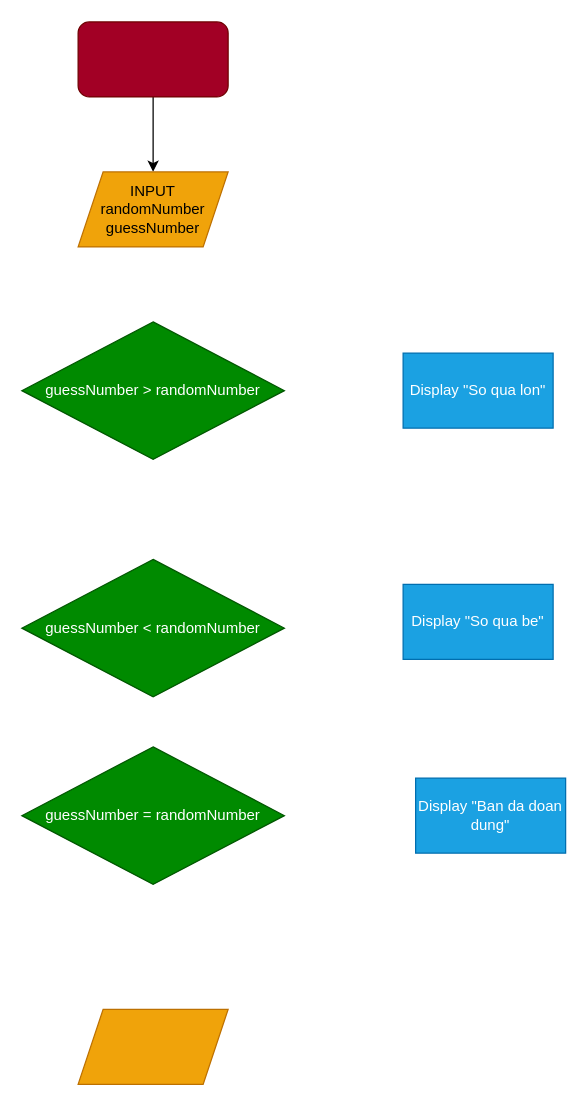
The diagram is 588 pixels wide and 1106 high, and some of its shapes have lost their labels. Here are the shapes that lost their labels. From the top down, the centre of each, then its label:
At point (152, 59): "START".
At point (152, 1046): "Display".
